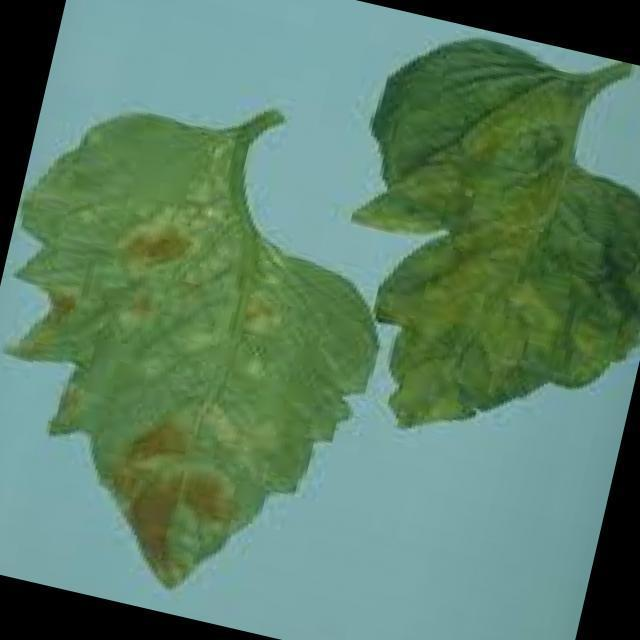Mosaic Virus: (0, 181, 312, 603), (354, 41, 640, 434)
